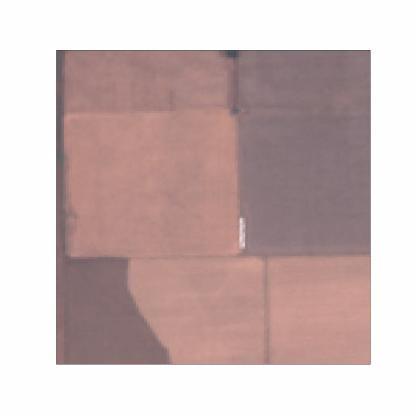silobolsa: (238, 217, 246, 250)
